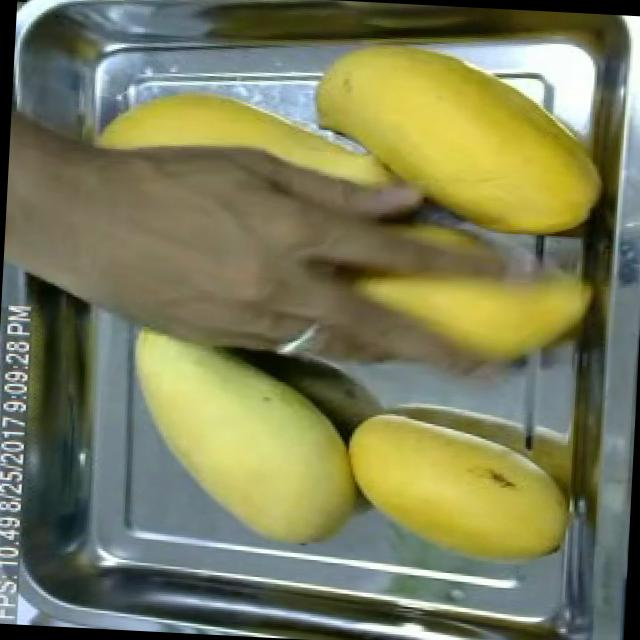fruit: (0, 45, 427, 358), (290, 28, 622, 252), (115, 332, 372, 558), (303, 202, 609, 378), (332, 403, 586, 580)
